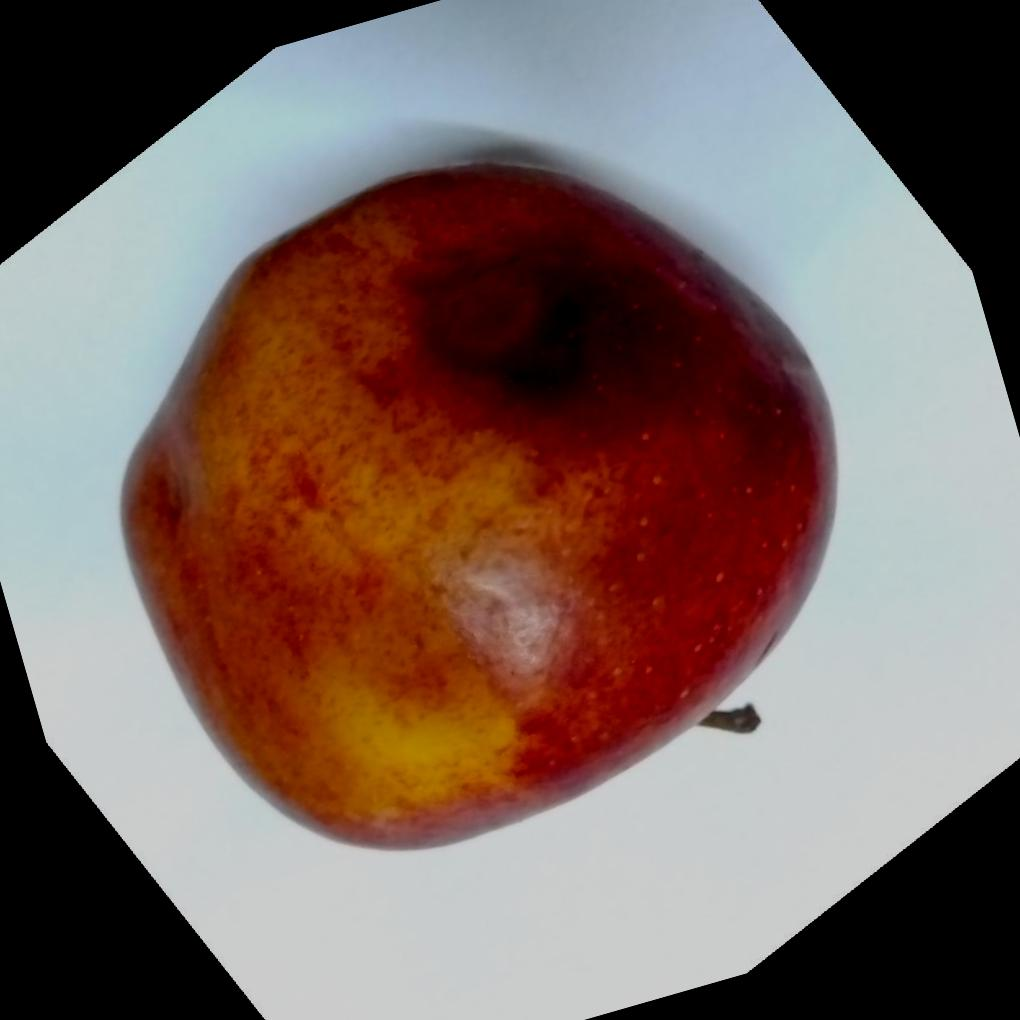FreshOrange: (117, 162, 838, 855)
